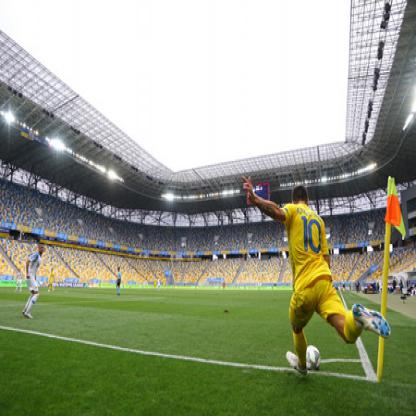corner kick: (243, 122, 407, 391)
